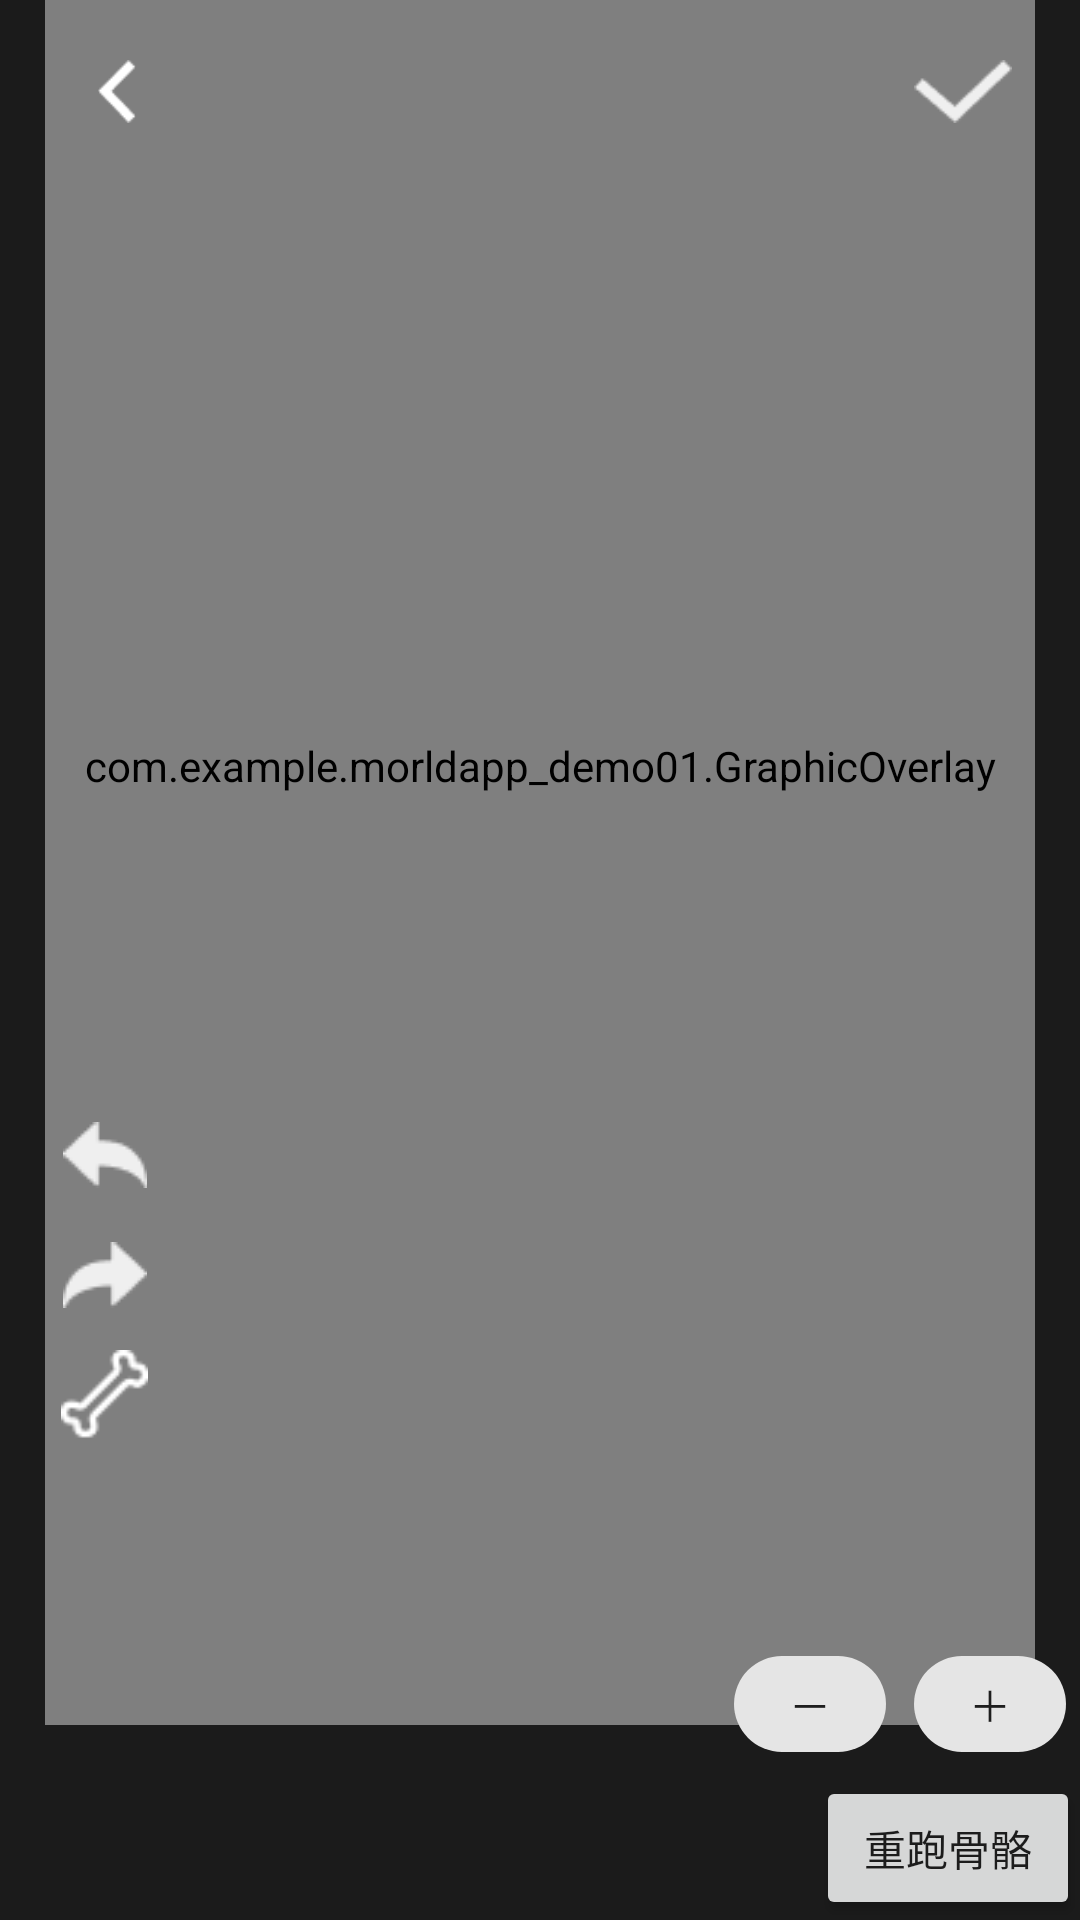

Screen size 1080 × 1920. Icon name, then its center in pixels as (x=x, y=y):
next: (x=105, y=1275)
prev: (x=105, y=1155)
save: (x=963, y=91)
